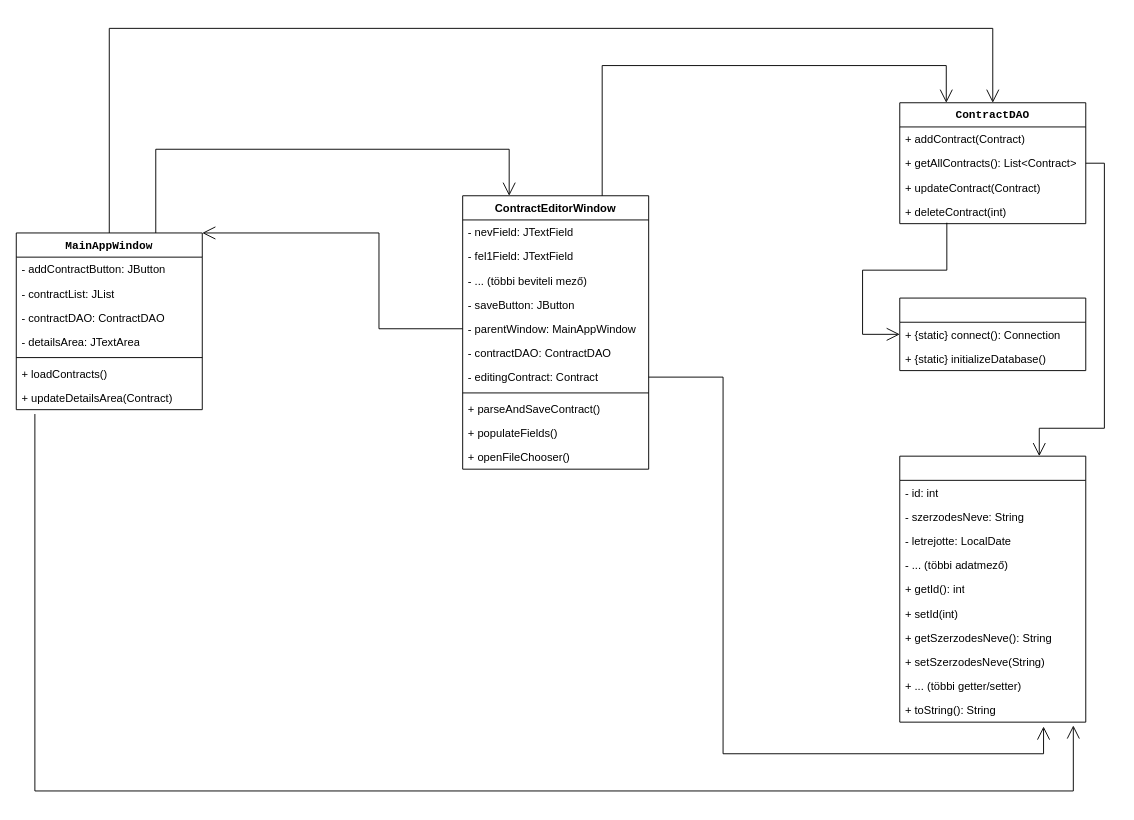
Image size: 1134x820. Some labels were removed from this diagram. Each missing label, with the box of its shape:
Contract: (899, 455, 1086, 722)
DatabaseManager: (899, 297, 1086, 371)
